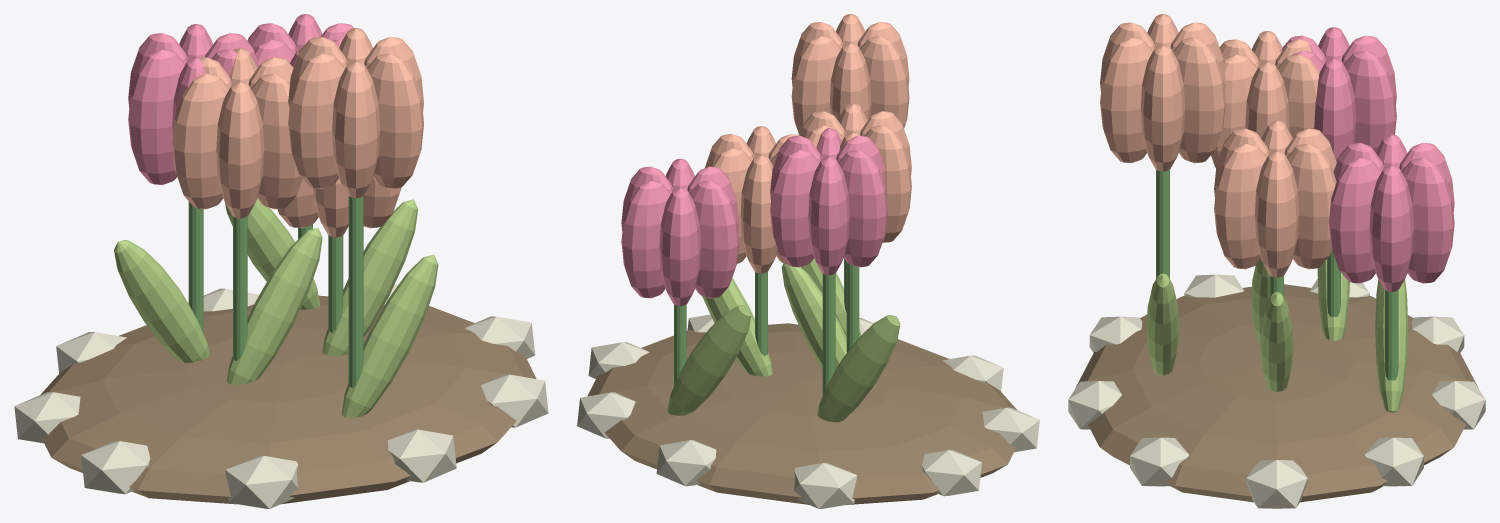
Rendered from Tulip2.fbx.
3 renders of one model, left to right at view 1: azimuth 30°, elevation 25°; view 2: azimuth 150°, elevation 25°; view 3: azimuth 270°, elevation 25°, orthographic. The views are drawn at different scales.
Parts seen in each view (by area): view 1: Oval garden bed.001, Upright stem leaf.005, Upright stem leaf.007, Upright stem leaf.004, Upright tulip petal.033, Upright tulip petal.045, Upright tulip petal.035, Upright tulip petal.027, Upright tulip petal.046, Upright tulip petal.034, Upright stem leaf.003, Upright tulip petal.047 (+28 smaller); view 2: Oval garden bed.001, Upright stem leaf.006, Upright stem leaf.004, Upright tulip petal.027, Upright tulip petal.037, Upright tulip petal.039, Upright tulip petal.025, Upright tulip petal.038, Upright tulip petal.026, Upright tulip petal.020, Upright tulip petal.031, Upright tulip petal.033 (+31 smaller); view 3: Oval garden bed.001, Upright tulip petal.037, Upright tulip petal.031, Upright tulip petal.035, Upright tulip petal.023, Upright tulip petal.041, Upright tulip petal.036, Upright tulip petal.030, Upright tulip petal.018, Upright tulip petal.019, Upright tulip petal.025, Upright tulip petal.024 (+32 smaller).
Boxes of the visible parts, x1,y1,x2,y2 form: Oval garden bed.001: (40,295,536,504); Upright stem leaf.005: (342,254,438,417); Upright stem leaf.007: (227,228,322,384); Upright stem leaf.004: (114,240,209,363); Upright tulip petal.033: (288,53,345,188); Upright tulip petal.045: (172,74,229,209); Upright tulip petal.035: (367,53,423,188); Upright tulip petal.027: (128,49,185,185); Upright tulip petal.046: (216,81,264,218); Upright tulip petal.034: (332,61,379,198); Upright stem leaf.003: (322,199,417,356); Upright tulip petal.047: (251,74,302,209); Oval garden bed.001: (587,323,1016,504); Upright stem leaf.006: (667,305,751,415); Upright stem leaf.004: (817,315,900,422); Upright tulip petal.027: (838,150,887,267); Upright tulip petal.037: (621,181,670,298); Upright tulip petal.039: (689,181,739,298); Upright tulip petal.025: (770,150,819,267); Upright tulip petal.038: (659,187,700,306); Upright tulip petal.026: (808,156,849,275); Upright tulip petal.020: (740,154,777,273); Upright tulip petal.031: (791,36,840,135); Upright tulip petal.033: (860,36,909,128); Oval garden bed.001: (1075,284,1478,502); Upright tulip petal.037: (1401,158,1454,283); Upright tulip petal.031: (1173,37,1225,163); Upright tulip petal.035: (1100,37,1152,163); Upright tulip petal.023: (1214,144,1266,269); Upright tulip petal.041: (1329,158,1381,283); Upright tulip petal.036: (1369,165,1413,291); Upright tulip petal.030: (1140,44,1184,171); Upright tulip petal.018: (1254,150,1299,277); Upright tulip petal.019: (1287,144,1336,269); Upright tulip petal.025: (1344,51,1396,152); Upright tulip petal.024: (1314,57,1355,162).
Bounding box in the file's own units: 171 × 148 × 139.
